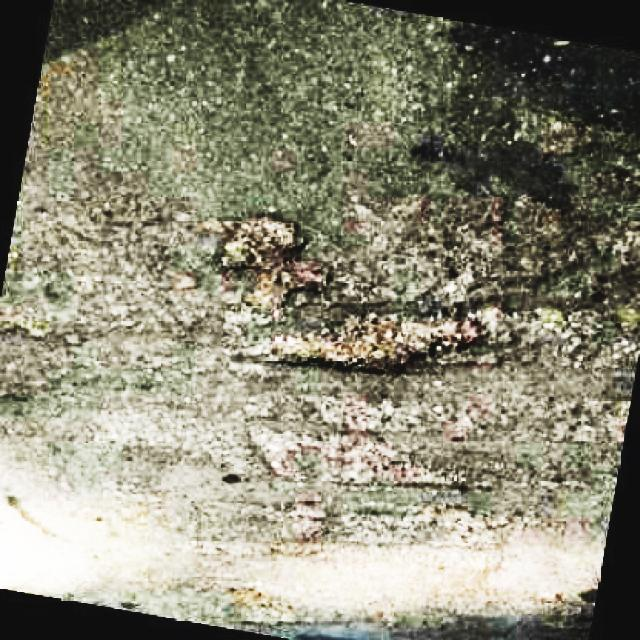pothole: (229, 306, 506, 374), (246, 428, 466, 492), (217, 209, 314, 277), (274, 269, 341, 314)
